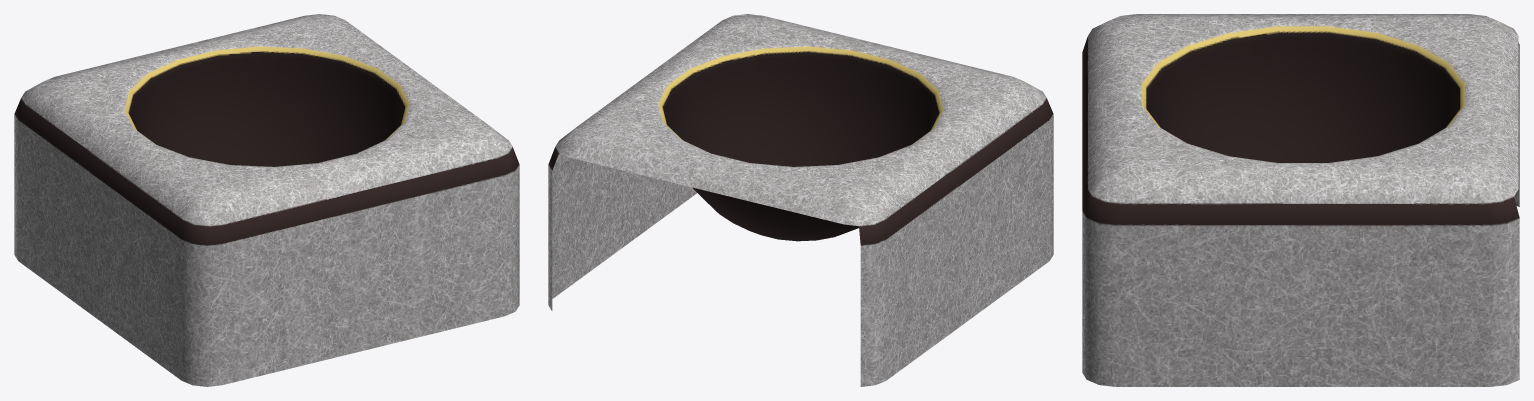
The model's file is obj_slot.fbx.
The picture shows the model from 3 angles, left to right: view 1: azimuth 30°, elevation 25°; view 2: azimuth 150°, elevation 25°; view 3: azimuth 270°, elevation 25°; orthographic projection. The views are drawn at different scales.
Visible parts, largest first — view 1: kata; view 2: kata; view 3: kata.
Part boxes in pixels (x1,y1,x2,y2): kata: (14,14,519,386); kata: (548,14,1053,386); kata: (1082,14,1519,386).
Bounding box in the file's own units: 99.09 × 49.55 × 98.07.
1 material, 1 textured.
